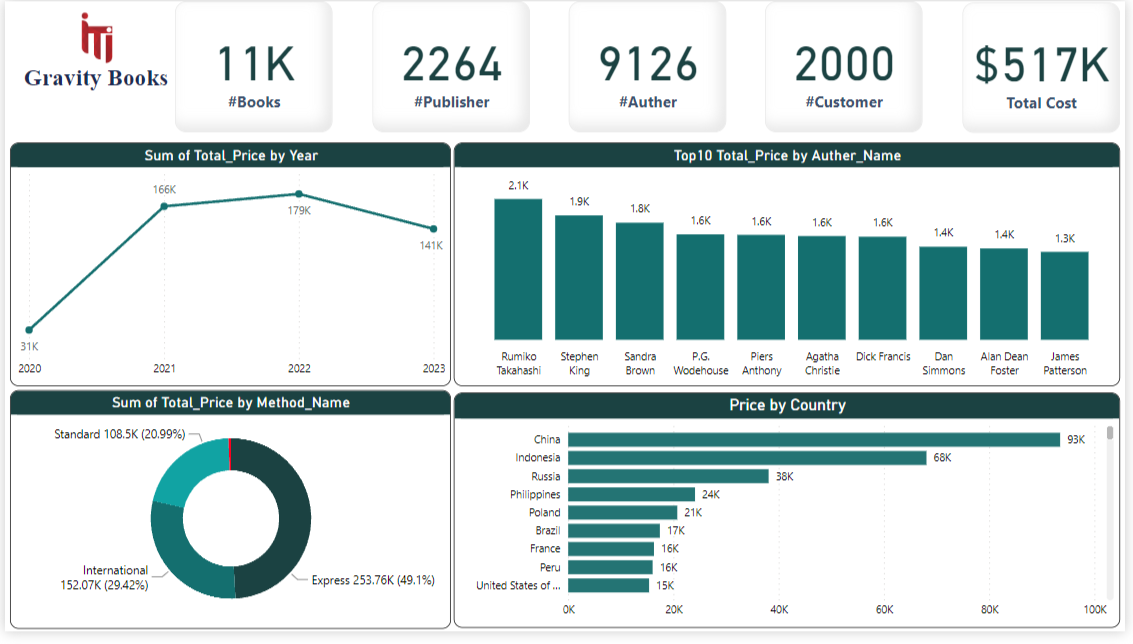

The dashboard page shown, as its layout file describes it:
{"tool":"powerbi","page":{"name":"Page 1","canvas":[1280,720],"ordinal":0},"visuals":[{"type":"card","fields":{"Values":["Measure table.#Books"]},"box":[194.9,0,179.8,149.6],"z":0},{"type":"card","fields":{"Values":["Measure table.#Auther"]},"box":[644.5,0,179.8,149.6],"z":1000},{"type":"card","fields":{"Values":["Measure table.#Customer"]},"box":[869.3,0,179.8,149.6],"z":2000},{"type":"card","fields":{"Values":["Measure table.Total Cost"]},"box":[1094.1,1.2,179.7,149.1],"z":3000},{"type":"card","fields":{"Values":["Measure table.#Publisher"]},"box":[419.7,0,179.8,149.6],"z":4000},{"type":"barChart","title":"Price by Country","fields":{"Category":["Dim_customer.Country_Name"],"Y":["Sum(Fact_Sales.Total_Price)"]},"box":[512.9,447.1,761.4,268.6],"z":5000},{"type":"textbox","box":[9.6,49.4,194.9,130.4],"z":6000},{"type":"image","box":[57.6,0,97.4,75.5],"z":7000},{"type":"donutChart","fields":{"Y":["Sum(Fact_Sales.Total_Price)"],"Category":["Dim_Shipping.Method_Name"]},"box":[6.1,443.7,503.6,272.6],"z":8000},{"type":"lineStackedColumnComboChart","title":"Top10 Total_Price by Auther_Name","fields":{"Category":["Dim_Book.Auther_Name"],"Y":["Sum(Fact_Sales.Total_Price)"]},"box":[512.9,161.4,761.4,278.6],"z":9000},{"type":"lineChart","fields":{"Y":["Sum(Fact_Sales.Total_Price)"],"Category":["DimDate.Date.Variation.Date Hierarchy.Year","DimDate.Date.Variation.Date Hierarchy.Quarter","DimDate.Date.Variation.Date Hierarchy.Month","DimDate.Date.Variation.Date Hierarchy.Day"]},"box":[5.7,161.4,504.3,278.6],"z":10000}]}

Visuals, with their boxes in screenshot pixels (x1, y1, x2, y2), scaled from the page's 1280x720 canvas onto the 1133x644 screenshot:
card - Measure table.#Books: region(173, 0, 332, 134)
card - Measure table.#Auther: region(570, 0, 730, 134)
card - Measure table.#Customer: region(769, 0, 929, 134)
card - Measure table.Total Cost: region(968, 1, 1128, 134)
card - Measure table.#Publisher: region(372, 0, 531, 134)
"Price by Country" barChart: region(454, 400, 1128, 640)
textbox: region(8, 44, 181, 161)
image: region(51, 0, 137, 68)
donutChart - Sum(Fact_Sales.Total_Price) x Dim_Shipping.Method_Name: region(5, 397, 451, 641)
"Top10 Total_Price by Auther_Name" lineStackedColumnComboChart: region(454, 144, 1128, 394)
lineChart - Sum(Fact_Sales.Total_Price) x DimDate.Date.Variation.Date Hierarchy.Year: region(5, 144, 451, 394)
